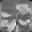people: (17, 4, 30, 16), (7, 19, 16, 32), (19, 19, 30, 26), (0, 12, 12, 18), (0, 20, 10, 27)
